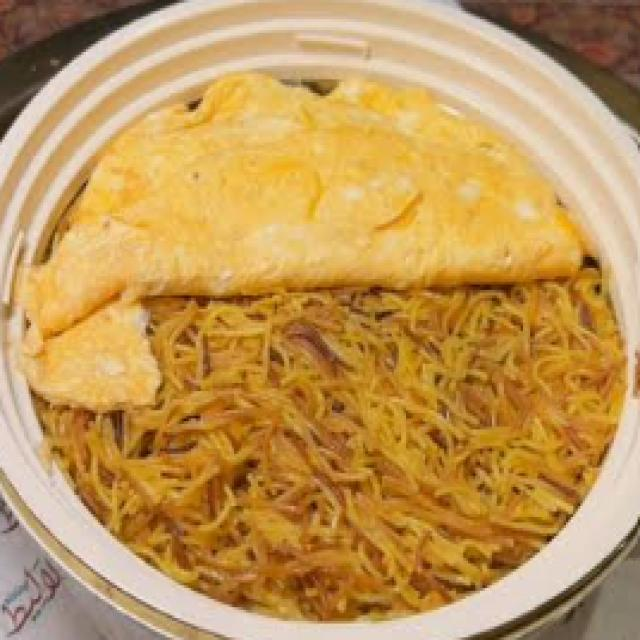Balaleet: (64, 86, 617, 590)
